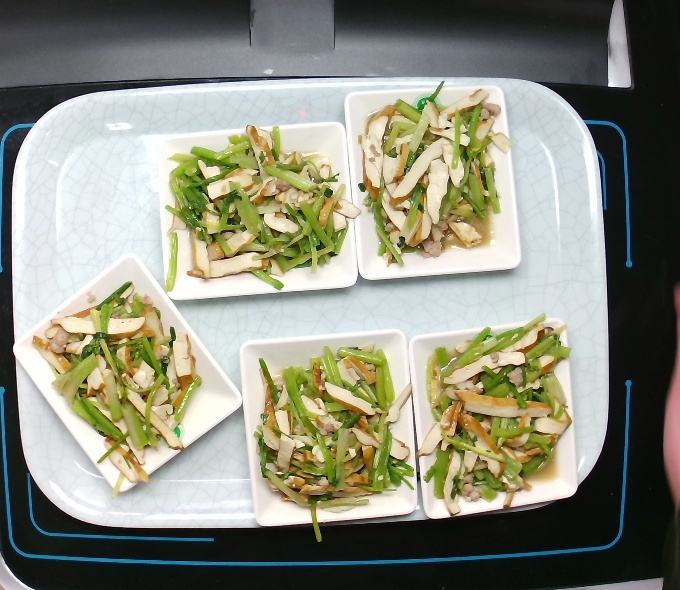wcq-XiangGanQinCai: (29, 276, 208, 507), (158, 118, 364, 301), (247, 338, 420, 549), (413, 308, 575, 518), (356, 79, 516, 273)
